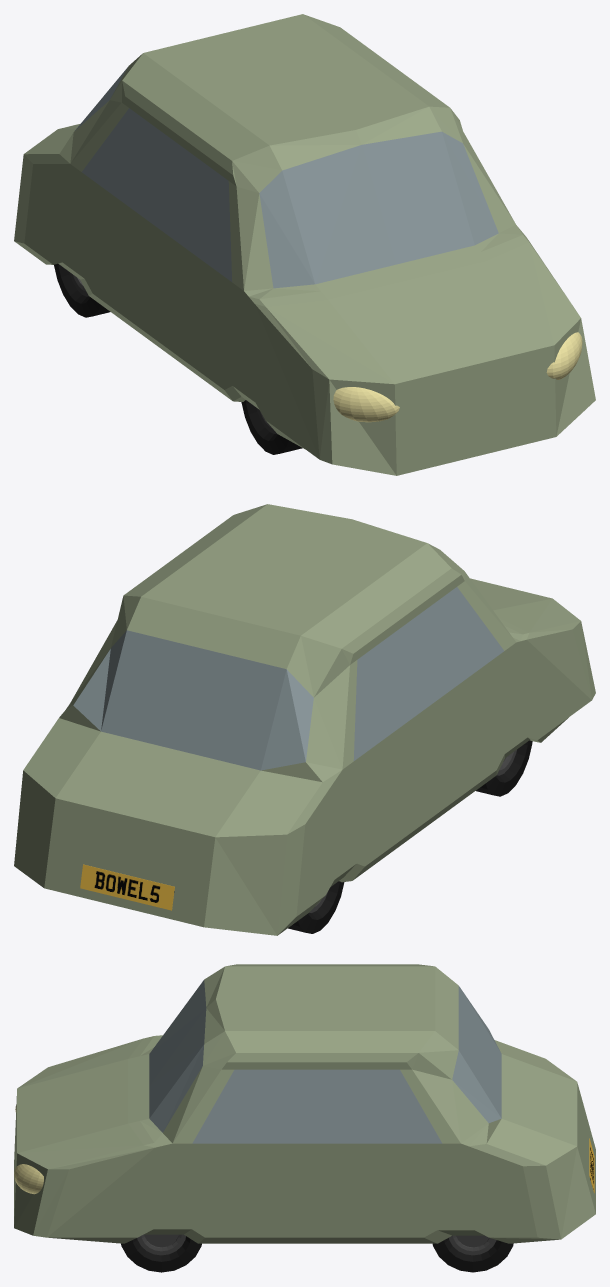
File: car 2.fbx
3 renders of one model, top to bottom at view 1: azimuth 30°, elevation 25°; view 2: azimuth 150°, elevation 25°; view 3: azimuth 270°, elevation 25°, orthographic. The views are drawn at different scales.
Parts seen in each view (by area): view 1: pSphere3; view 2: pSphere3; view 3: pSphere3.
Part boxes in pixels (left/top/right/bottom): pSphere3: left=14, top=14, right=595, bottom=475; pSphere3: left=14, top=504, right=595, bottom=935; pSphere3: left=14, top=964, right=595, bottom=1272.
Size of the model in its own units: 2.27 by 2.13 by 5.06.
